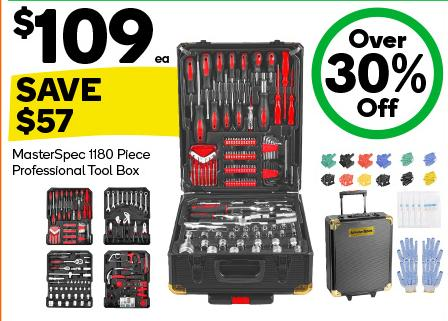description_block: (4, 146, 172, 184)
price_main: (2, 1, 178, 68)
product_image_block: (168, 33, 318, 309)
promo_text_block: (2, 68, 180, 145)
